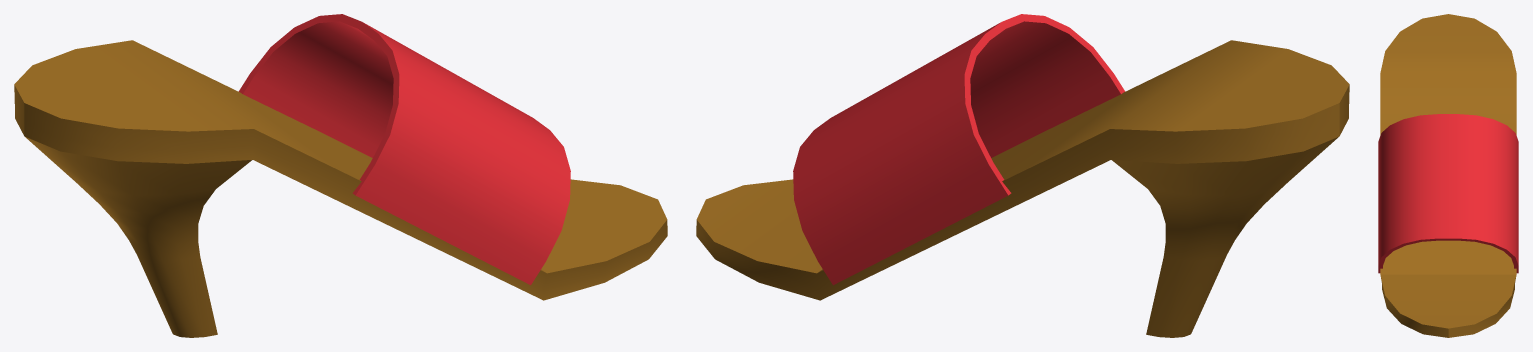
The model's file is Womans_Sandal.gltf.
3 renders of one model, left to right at view 1: azimuth 30°, elevation 25°; view 2: azimuth 150°, elevation 25°; view 3: azimuth 270°, elevation 25°, orthographic. The views are drawn at different scales.
Visible parts, largest first — view 1: Circle.1808; view 2: Circle.1808; view 3: Circle.1808.
Part boxes in pixels (x1=…): Circle.1808: x1=14, y1=14, x2=667, y2=337; Circle.1808: x1=696, y1=14, x2=1349, y2=337; Circle.1808: x1=1378, y1=14, x2=1518, y2=337.
Size of the model in its own units: 2.02 by 0.8163 by 0.69.
